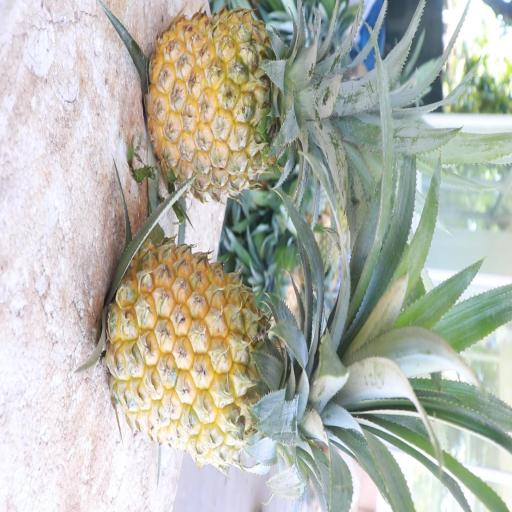Pineapple - v8 v1: (101, 236, 365, 478), (142, 5, 350, 208)
